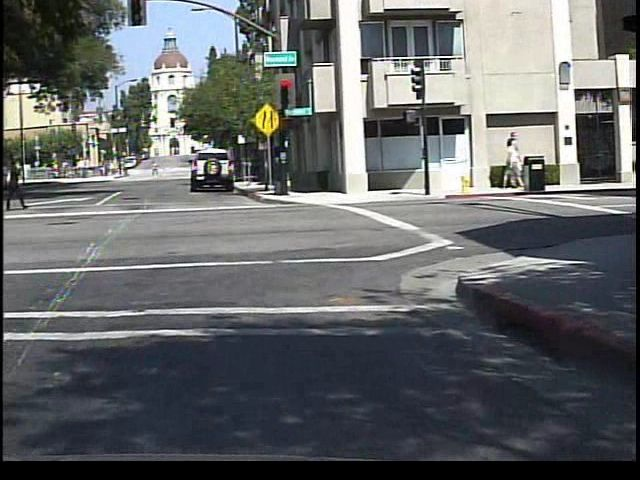person: (3, 169, 30, 229), (4, 155, 29, 213), (150, 160, 160, 179)
